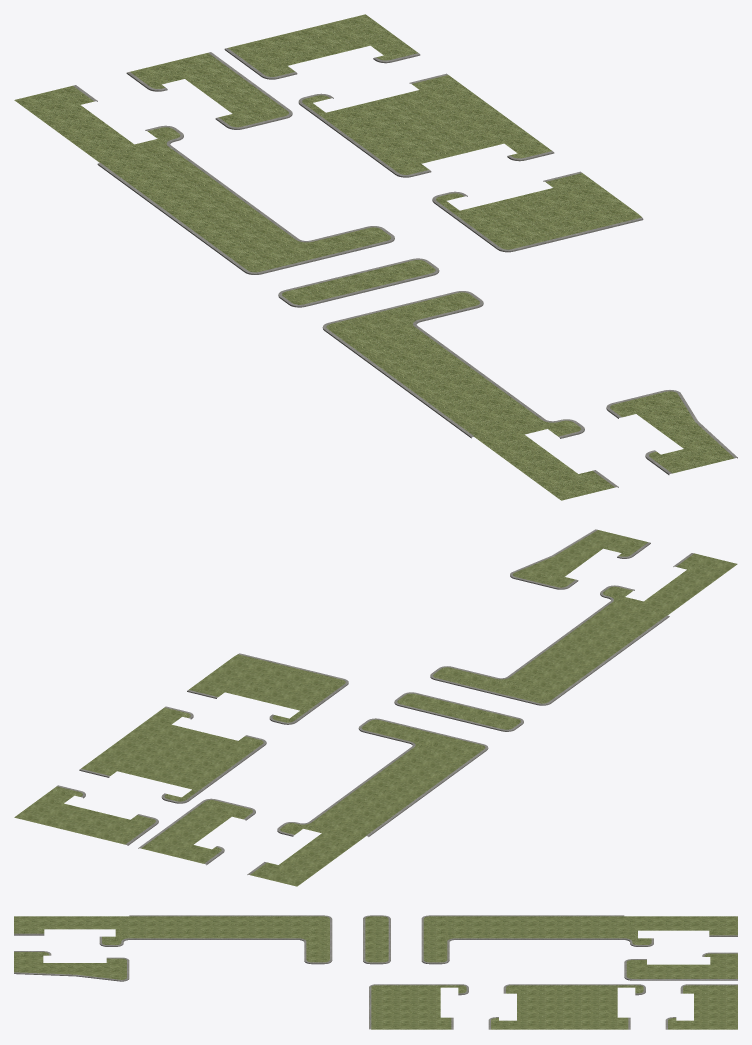
Rendered from vgnhseland04.obj.
3 renders of one model, top to bottom at view 1: azimuth 30°, elevation 25°; view 2: azimuth 150°, elevation 25°; view 3: azimuth 270°, elevation 25°, orthographic. The views are drawn at different scales.
Visible parts, largest first — view 1: vgnhseland04; view 2: vgnhseland04; view 3: vgnhseland04.
Boxes of the visible parts, box(x1,y1,x2,y2) form: vgnhseland04: box(14, 14, 737, 500); vgnhseland04: box(14, 529, 737, 886); vgnhseland04: box(14, 915, 737, 1029).
Size of the model in its own units: 59.61 by 0.2 by 160.
Materials: 2 (2 with a texture image).
